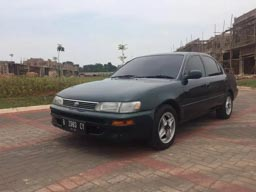plat: (59, 120, 85, 134)
